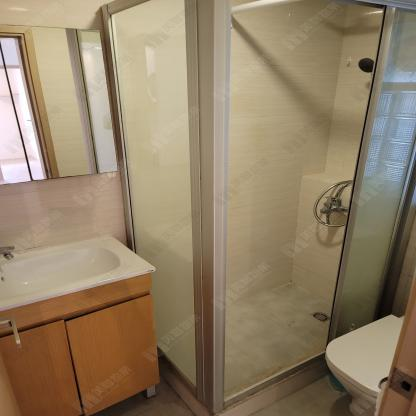Toilet: (325, 312, 405, 415)
Toilet Sink: (0, 233, 161, 313)
Water Cubicle: (99, 0, 416, 416)
